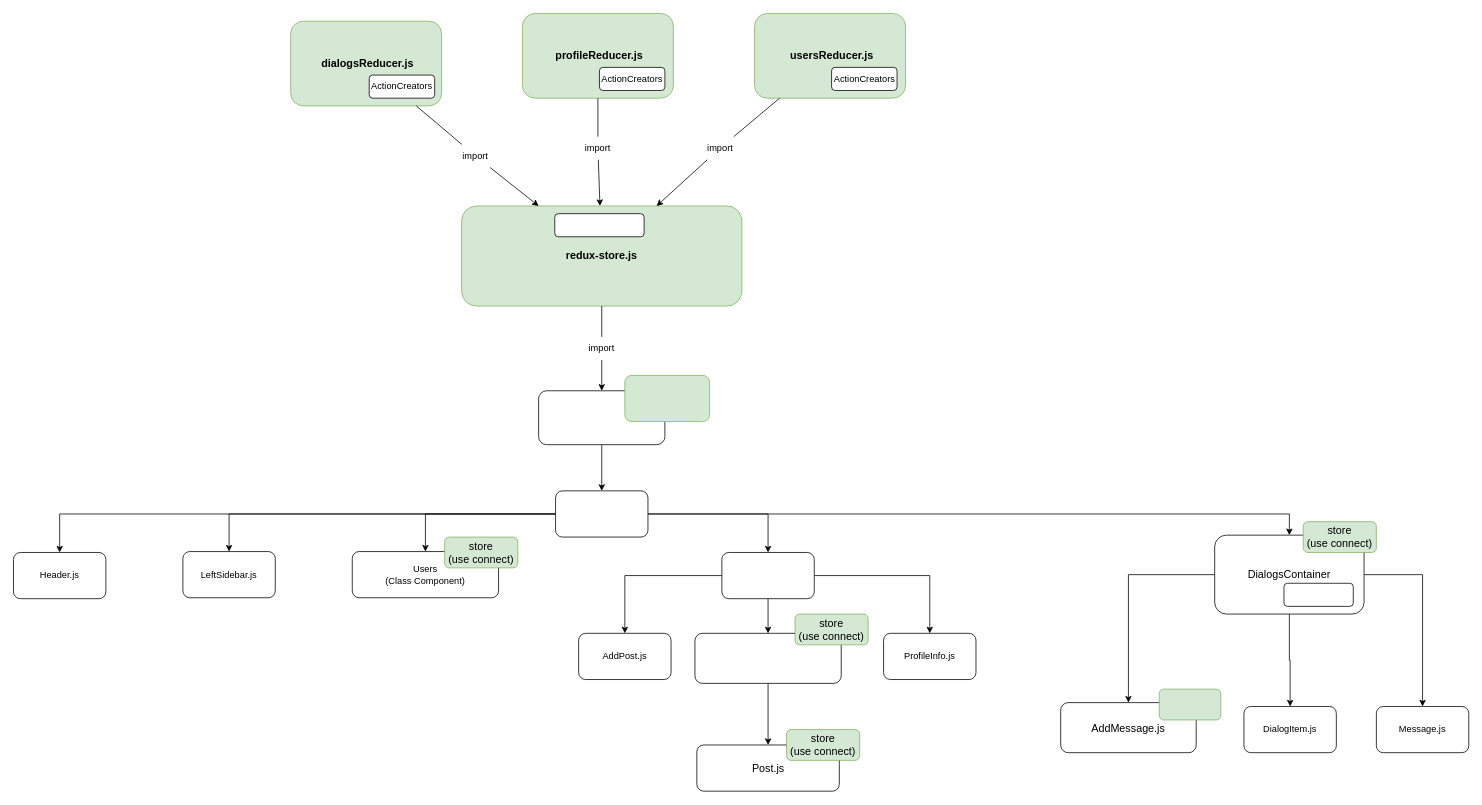
Image size: 1482x805. Some labels were removed from this diagram. The centre of each missing label's shape, as x and y in pixels:
"App.js" goes at pixel 601 513.
"Dialogs" goes at pixel 1318 594.
"Index.js" goes at pixel 601 417.
"let Reducers" goes at pixel 599 225.
"MyPosts.js" goes at pixel 767 658.
"Profile.js" goes at pixel 767 575.
"store (import from redux-store)" goes at pixel 667 398.
"store (use hooks)" goes at pixel 1189 704.
